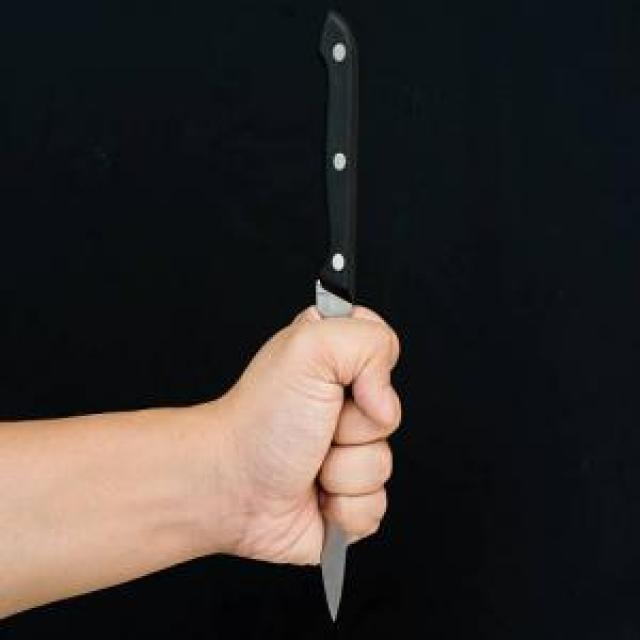knife: (318, 0, 365, 619)
